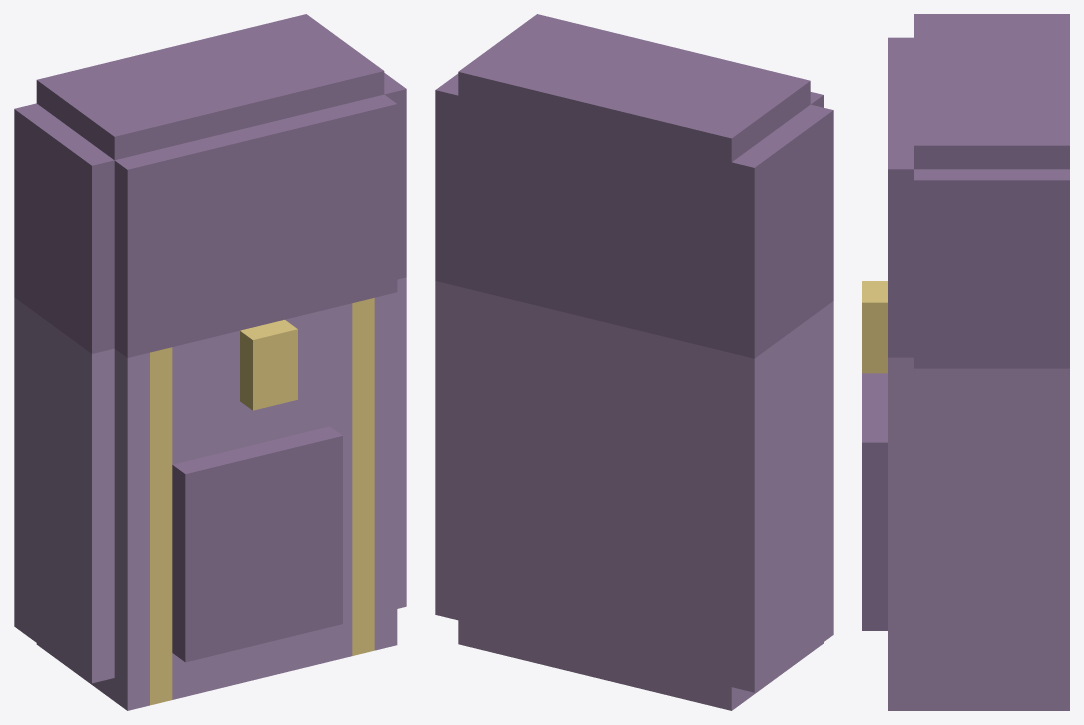
The model's file is backpack_magic.glb.
3 renders of one model, left to right at view 1: azimuth 30°, elevation 25°; view 2: azimuth 150°, elevation 25°; view 3: azimuth 270°, elevation 25°, orthographic.
Parts seen in each view (by area): view 1: item; view 2: item; view 3: item.
Boxes of the visible parts, x1,y1,x2,y2 form: item: [14, 14, 406, 710]; item: [435, 14, 833, 710]; item: [862, 14, 1069, 710].
Bounding box in the file's own units: 14 × 24 × 8.
